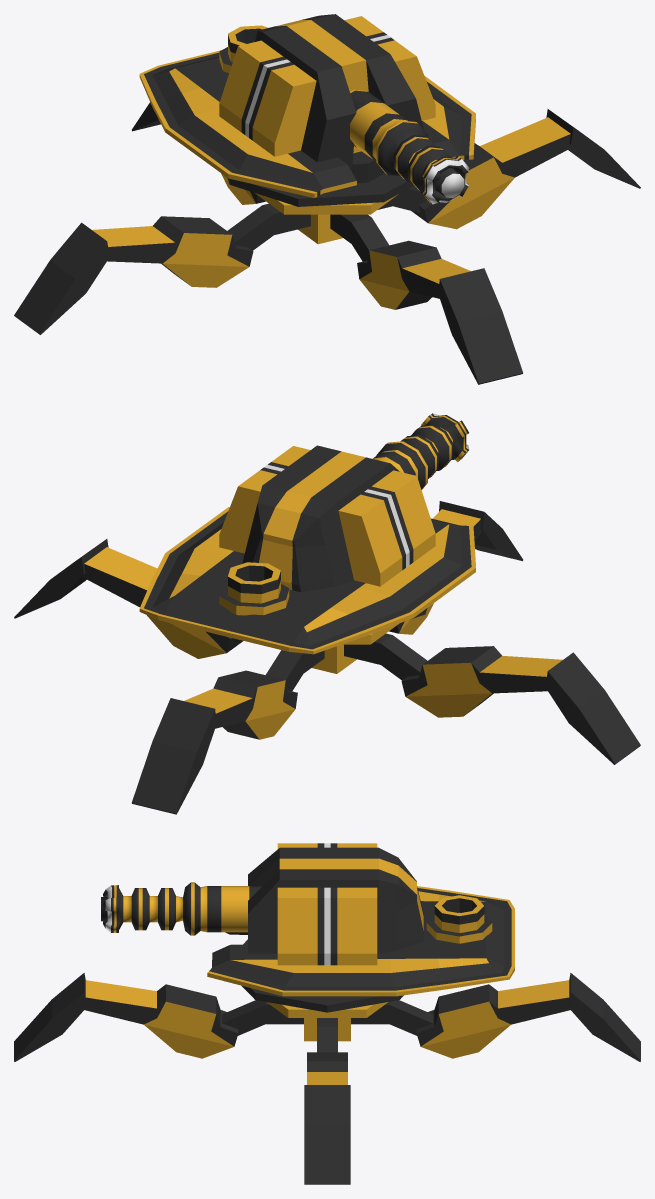
File: boss-2.fbx
The picture shows the model from 3 angles, top to bottom: view 1: azimuth 30°, elevation 25°; view 2: azimuth 150°, elevation 25°; view 3: azimuth 270°, elevation 25°; orthographic projection. The views are drawn at different scales.
Parts seen in each view (by area): view 1: boss-head, boss-base; view 2: boss-head, boss-base; view 3: boss-head, boss-base.
Boxes of the visible parts, box(x1,y1,x2,y2) form: boss-head: box(139, 14, 475, 206); boss-base: box(14, 102, 640, 384); boss-head: box(139, 413, 475, 654); boss-base: box(14, 501, 640, 814); boss-head: box(101, 843, 514, 1012); boss-base: box(14, 973, 640, 1184).
Bounding box in the file's own units: 400 × 133 × 400.
